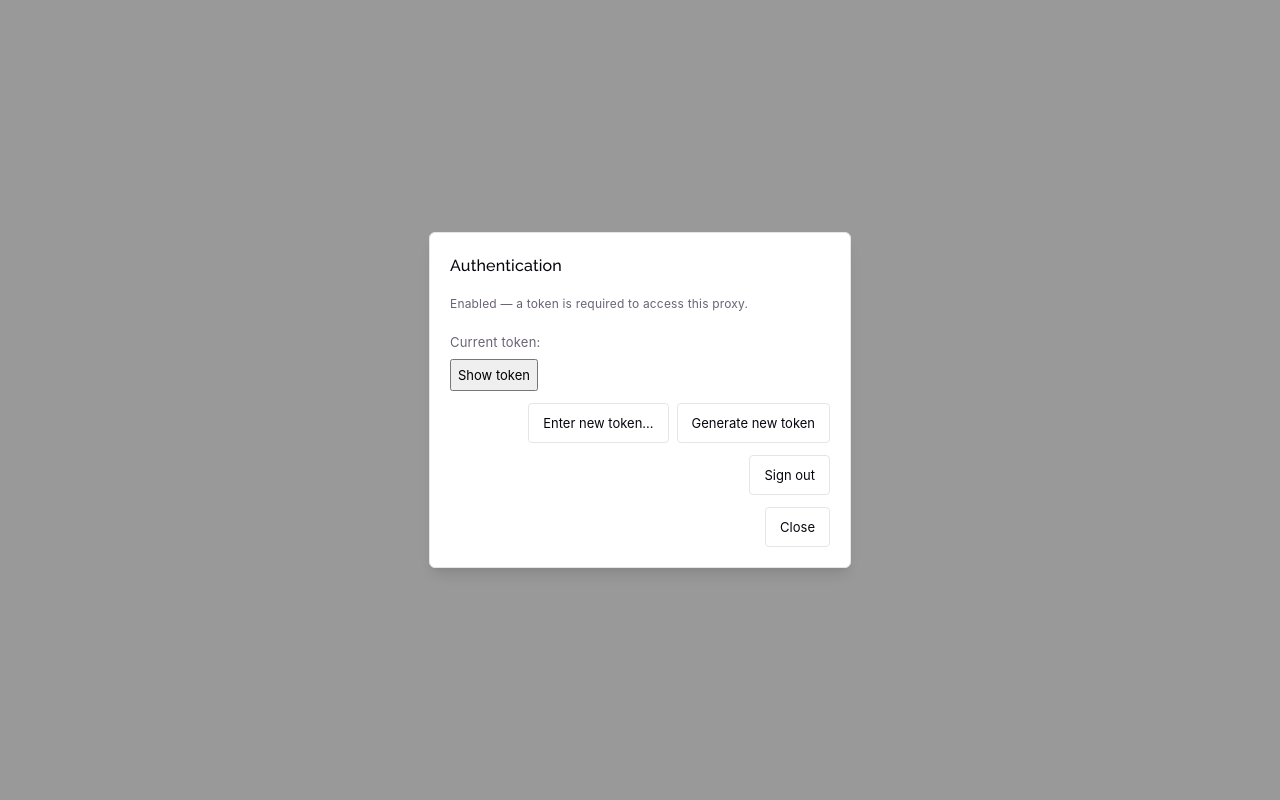
Test: SettingsOverlay › reveals the current token and offers rotate/generate when enabled and file-managed
Expected: the button "Generate new token" is shown, 677,403 -> 830,443
Click the button "Show token".
click(494, 375)  # box 450,359 -> 538,391
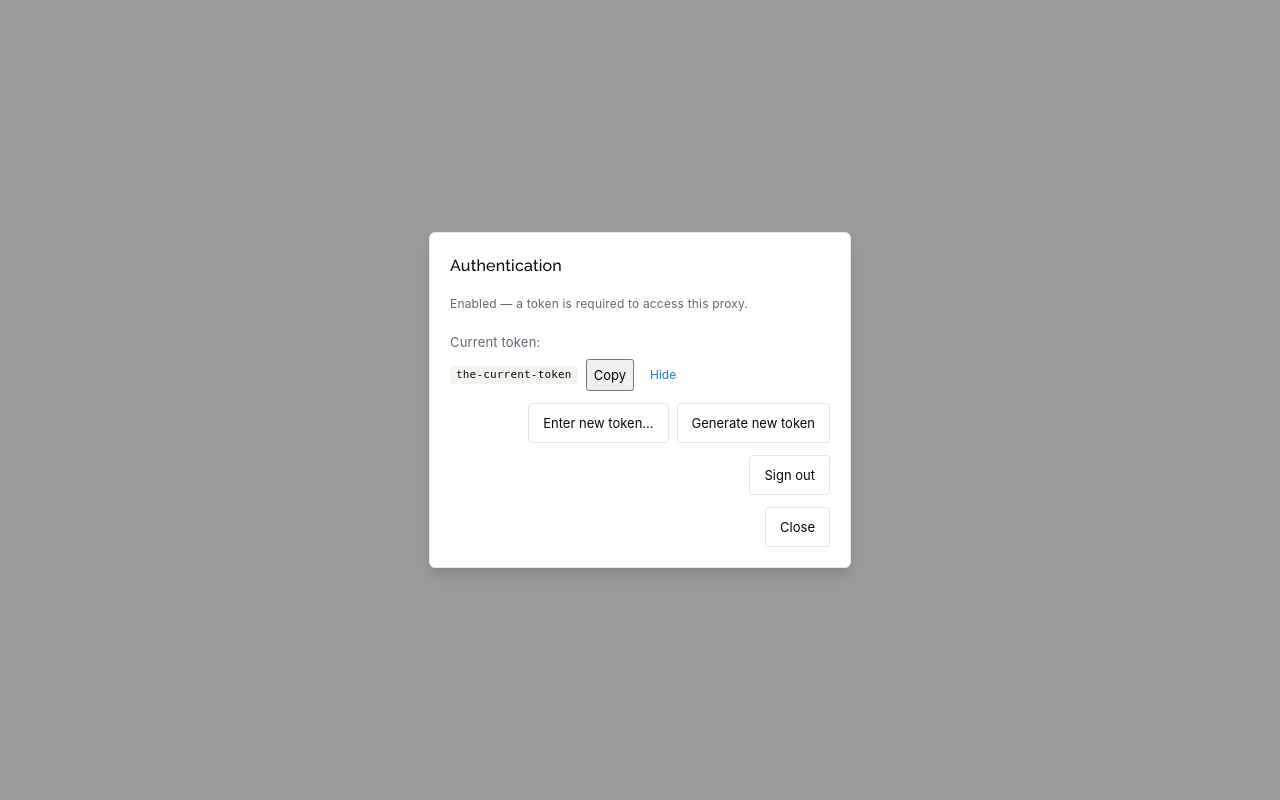
Now the text "the-current-token" is shown, box 450,366 -> 578,384
